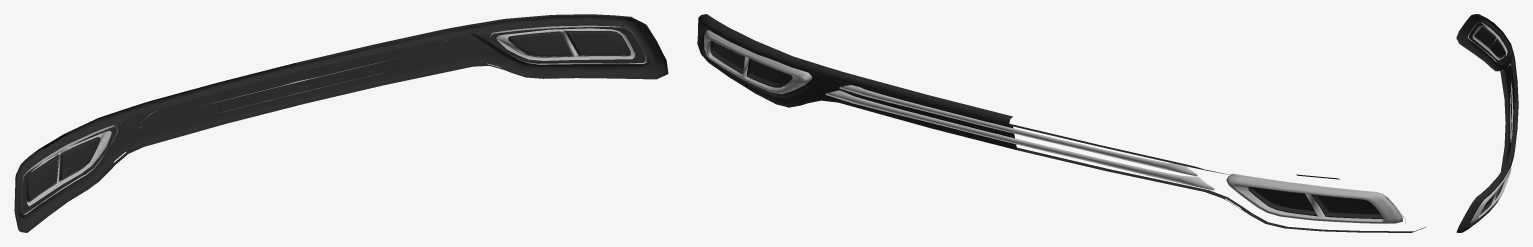
3 renders of one model, left to right at view 1: azimuth 30°, elevation 25°; view 2: azimuth 150°, elevation 25°; view 3: azimuth 270°, elevation 25°, orthographic. The views are drawn at different scales.
Parts seen in each view (by area): view 1: rear bumper 1; view 2: rear bumper 1; view 3: rear bumper 1.
Part boxes in pixels (bbox=[...]): rear bumper 1: bbox=[14, 14, 668, 232]; rear bumper 1: bbox=[697, 14, 1426, 232]; rear bumper 1: bbox=[1456, 14, 1518, 232].
Bounding box in the file's own units: 1.62 × 0.1404 × 0.2196.
4 materials, 1 textured.
